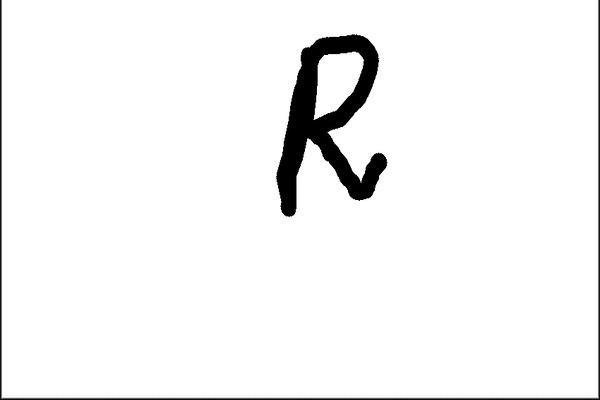R: (265, 28, 419, 220)
